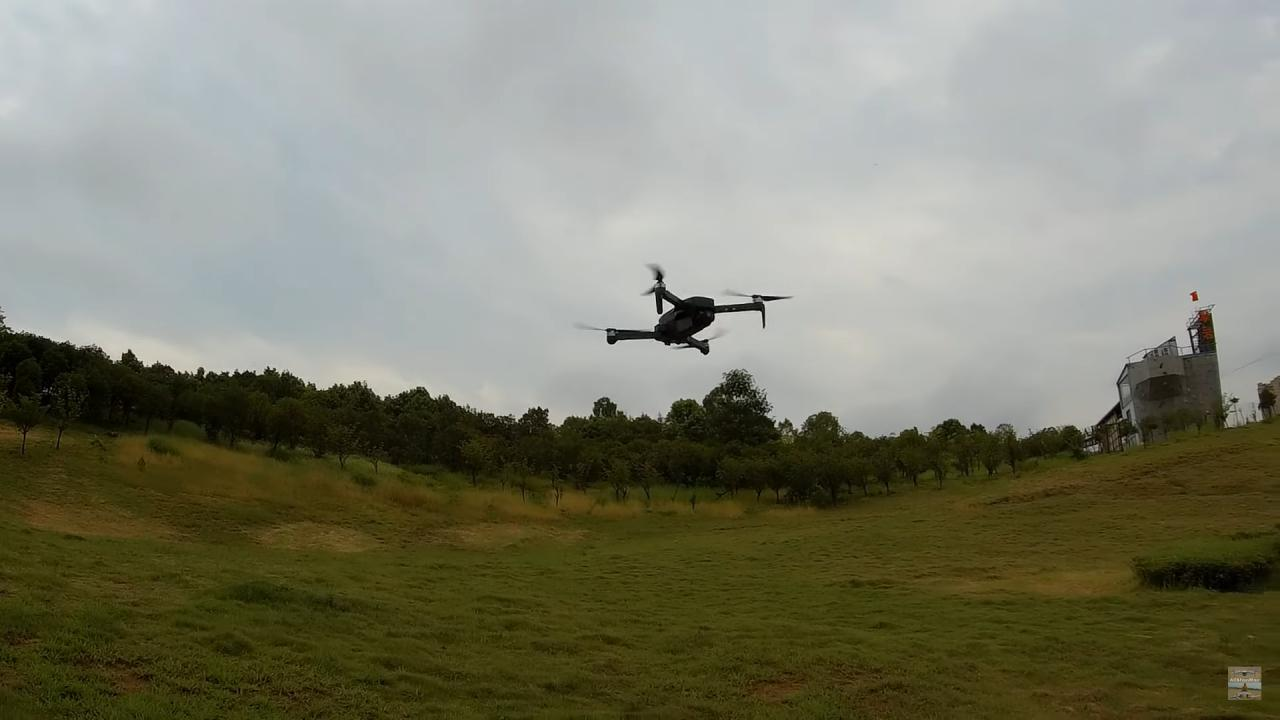Drone: (560, 248, 808, 368)
